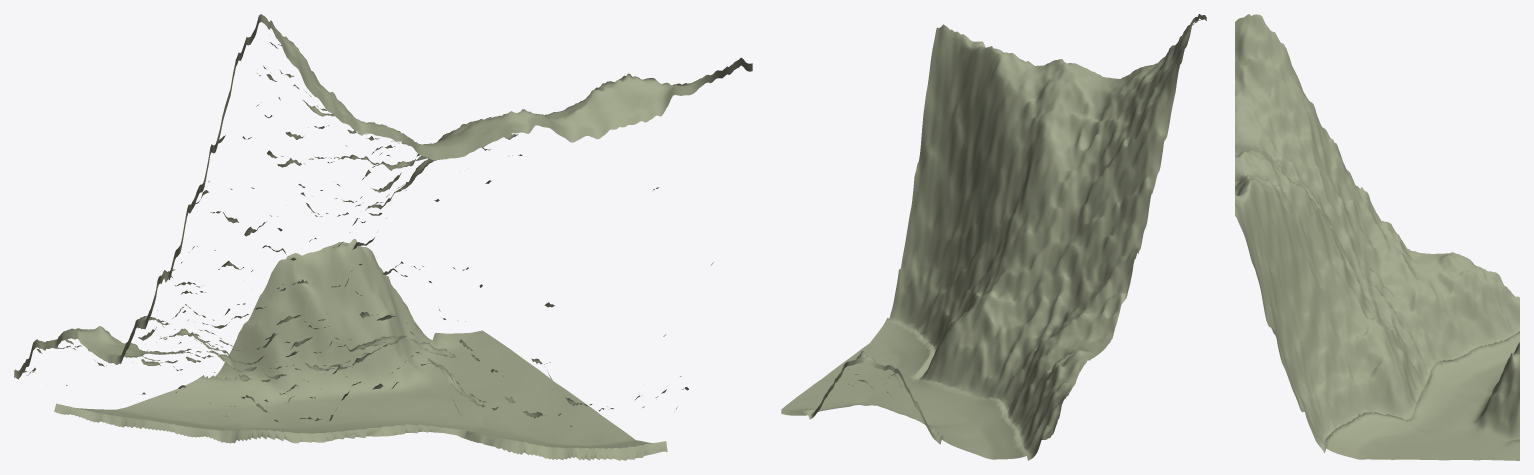
Rendered from terrain_r0_c1_lod0.glb.
3 renders of one model, left to right at view 1: azimuth 30°, elevation 25°; view 2: azimuth 150°, elevation 25°; view 3: azimuth 270°, elevation 25°, orthographic. The views are drawn at different scales.
Parts seen in each view (by area): view 1: terrain_r0_c1; view 2: terrain_r0_c1; view 3: terrain_r0_c1.
Boxes of the visible parts, x1,y1,x2,y2 form: terrain_r0_c1: (14,14,752,460); terrain_r0_c1: (781,14,1206,460); terrain_r0_c1: (1235,14,1519,460).
Size of the model in its own units: 50 by 63.31 by 50.
